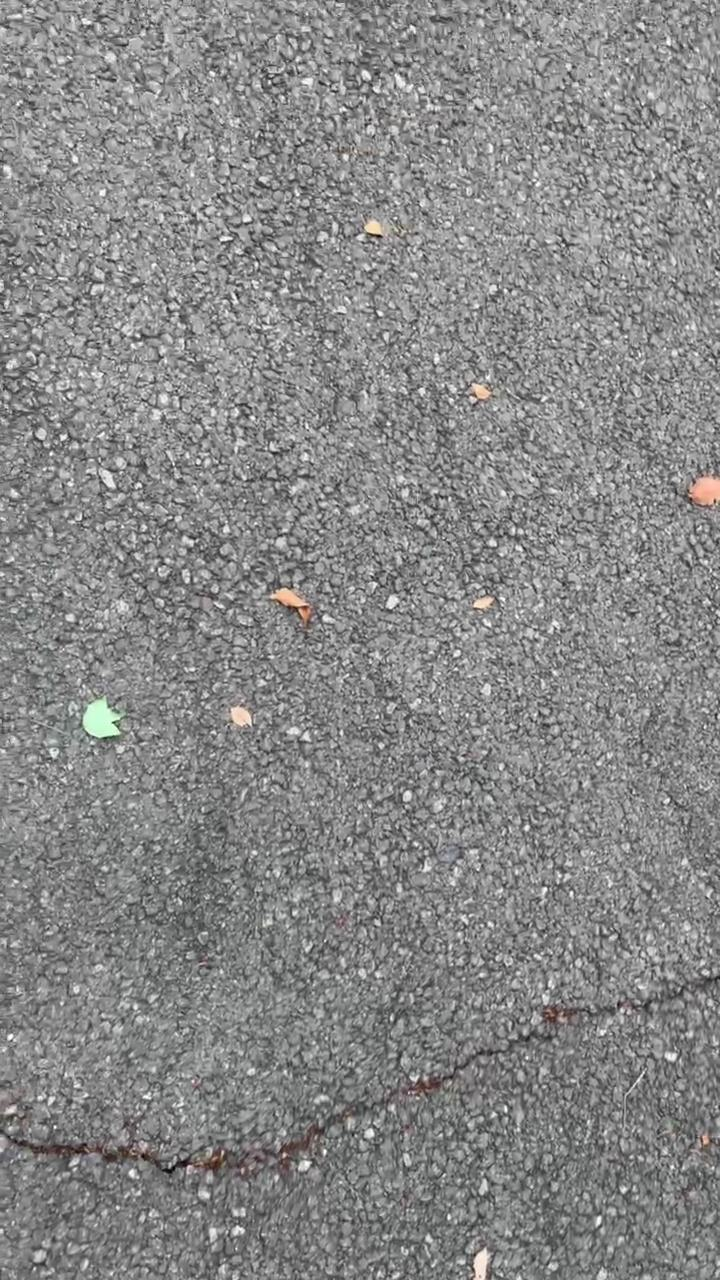Crack: (1, 971, 720, 1174)
